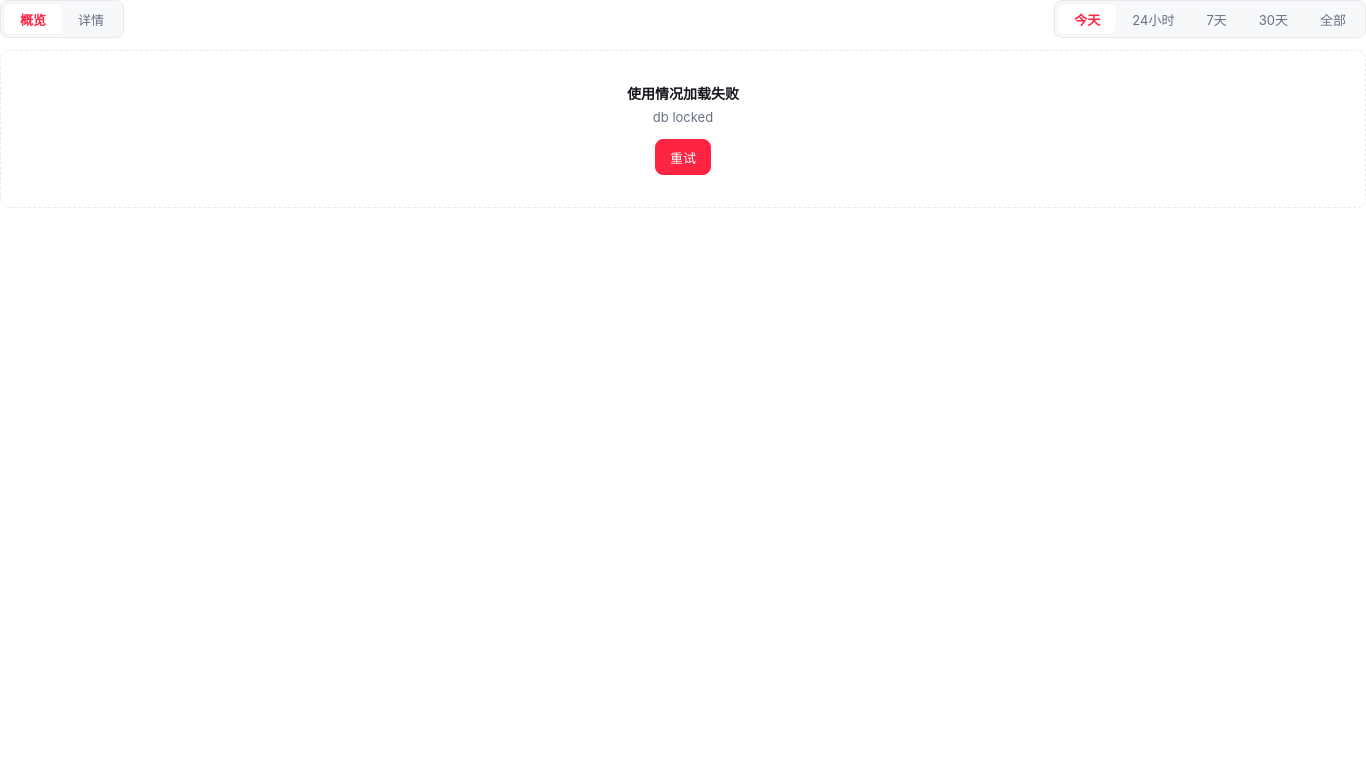
UsageView › summary 加载失败：显示错误与重试
Click the button "重试": (683, 157) [655, 139, 711, 175]
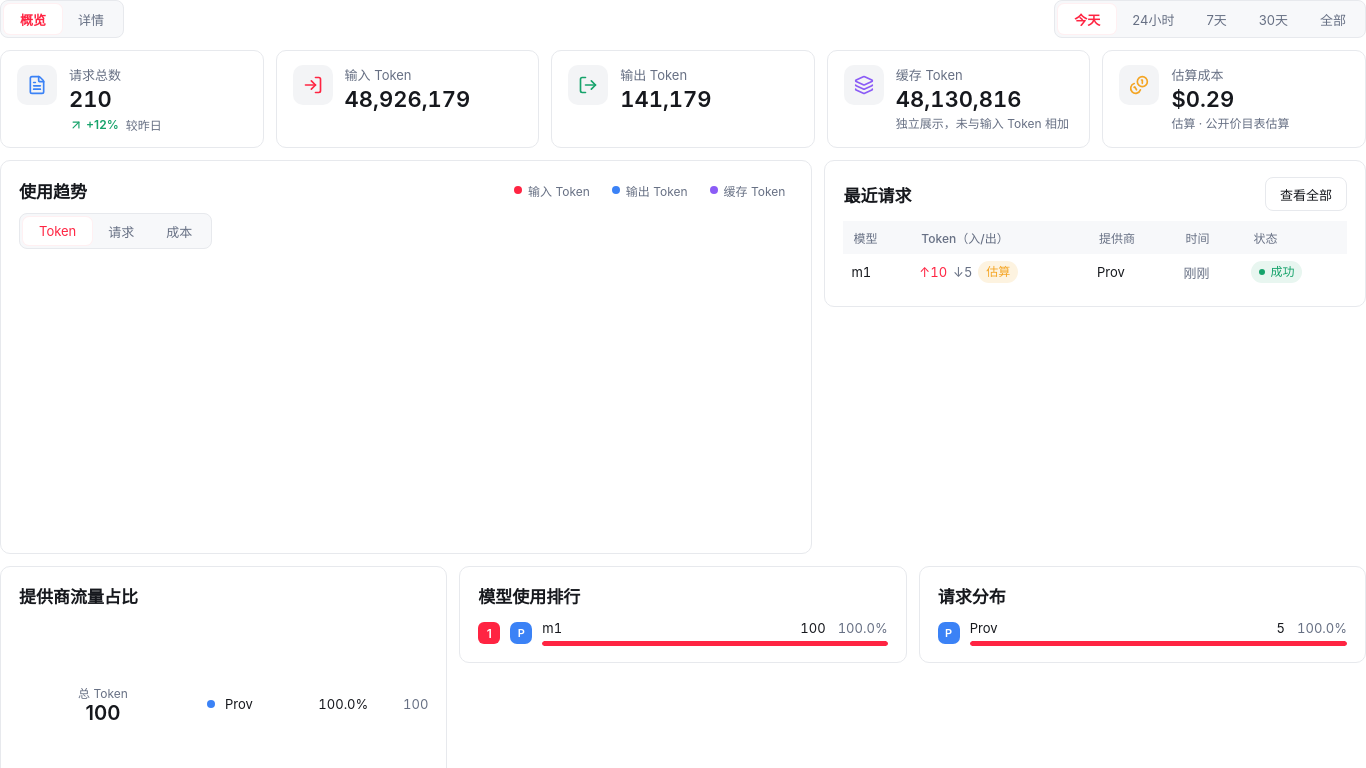
Now the number of elements with class "metric" is 5, box [0, 50, 264, 148]; [276, 50, 539, 148]; [551, 50, 815, 148]; [827, 50, 1090, 148]; [1102, 50, 1365, 148]
